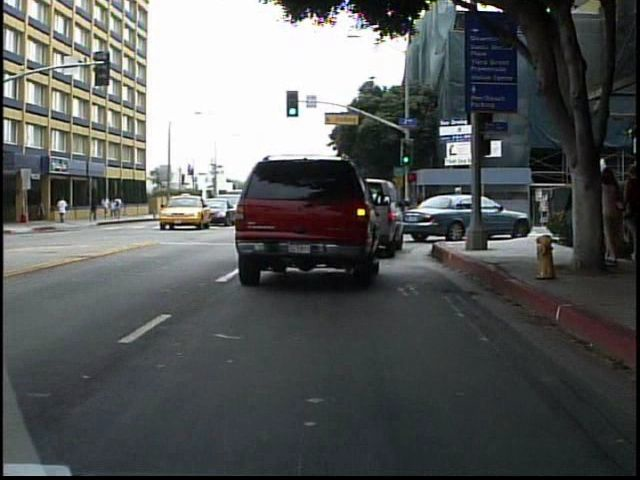person: (596, 167, 627, 266), (451, 184, 469, 230), (57, 195, 71, 227)
